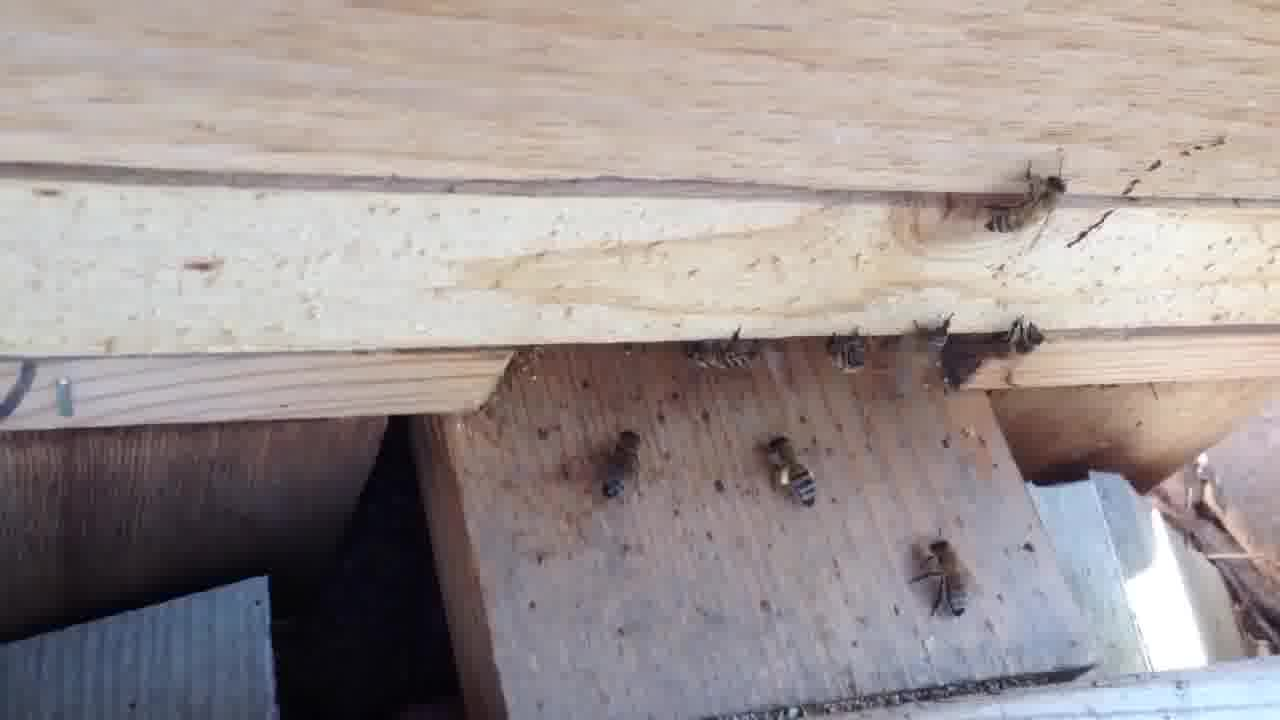pollen: (762, 430, 824, 513)
